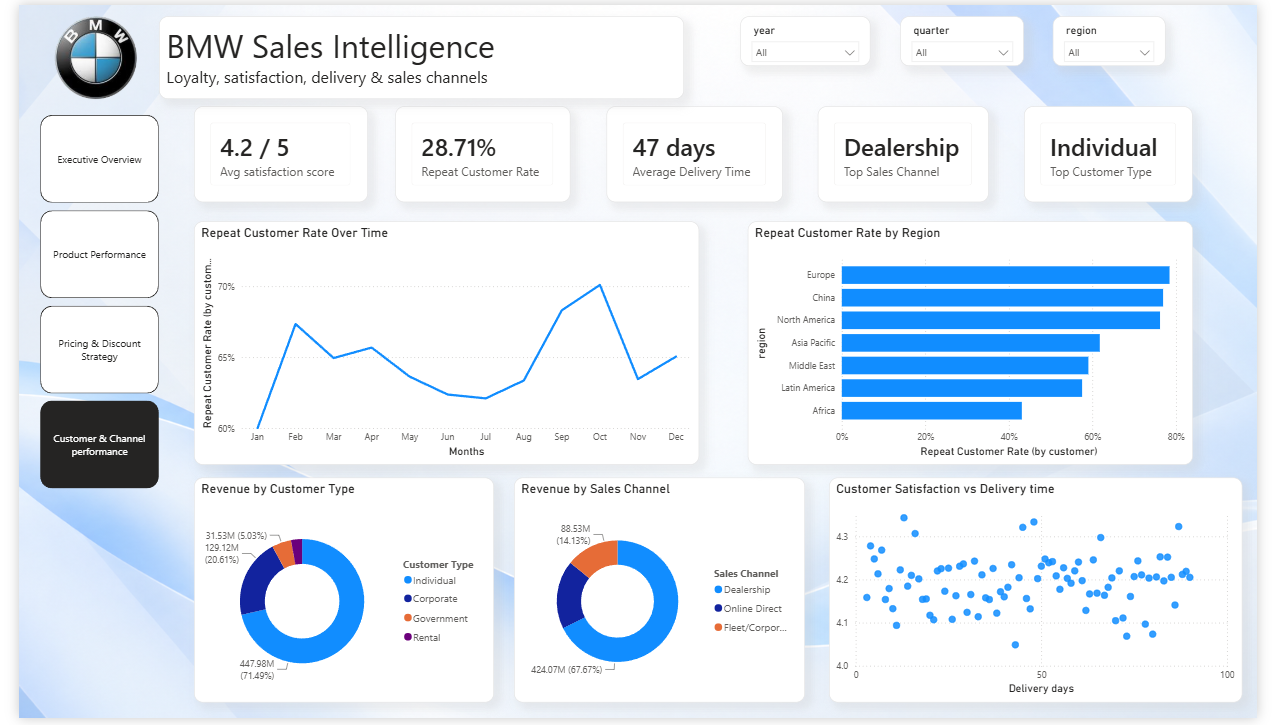

The dashboard page shown, as its layout file describes it:
{"tool":"powerbi","page":{"name":"Customer & Channel performance","canvas":[1650,950],"ordinal":3},"visuals":[{"type":"image","box":[0,0,1651,951],"z":0},{"type":"donutChart","title":"Revenue by Customer Type","fields":{"Category":["public dimcustomer.customer_type"],"Y":["public factsales.Total revenue"]},"box":[232.7,630.6,400,300],"z":1000},{"type":"lineChart","title":"Repeat Customer Rate Over Time","fields":{"Category":["public dimdate.month_name"],"Y":["public factsales.Repeat Customer Rate (by customer)"]},"box":[233.3,288.3,673.3,325],"z":2000},{"type":"slicer","fields":{"Values":["public dimdate.year"]},"box":[993.3,15,173.3,66.7],"z":3000},{"type":"donutChart","title":"Revenue by Sales Channel","fields":{"Category":["public dimcustomer.sales_channel"],"Y":["public factsales.Total revenue"]},"box":[659.2,630.6,387.8,300],"z":4000},{"type":"clusteredBarChart","title":"Repeat Customer Rate by Region","fields":{"Category":["public dimregion.region"],"Y":["public factsales.Repeat Customer Rate (by customer)"]},"box":[971.7,288.3,593.3,325],"z":5000},{"type":"scatterChart","title":"Customer Satisfaction vs Delivery time","fields":{"X":["public factsales.delivery_days"],"Y":["Avg(public factsales.customer_satisfaction_score)"]},"box":[1079.6,630.6,551,300],"z":6000},{"type":"pageNavigator","box":[28.3,146.7,158,500],"z":7000},{"type":"cardVisual","fields":{"Data":["public factsales.avg satisfaction score"]},"box":[233.3,135,231.7,128.3],"z":8000},{"type":"cardVisual","fields":{"Data":["public factsales.Repeat Customer Rate"]},"box":[502.1,135,233.3,128.3],"z":9000},{"type":"cardVisual","fields":{"Data":["public factsales.Average Delivery Time Display"]},"box":[782.5,135,235,128.3],"z":10000},{"type":"cardVisual","fields":{"Data":["public factsales.Top Sales Channel"]},"box":[1064.6,135,228.3,128.3],"z":11000},{"type":"cardVisual","fields":{"Data":["public factsales.Top Customer Type"]},"box":[1340,135,225,128.3],"z":12000},{"type":"slicer","fields":{"Values":["public dimregion.region"]},"box":[1395,15,150,66.7],"z":13000},{"type":"slicer","fields":{"Values":["public dimdate.quarter"]},"box":[1198.3,15,165,66.7],"z":14000},{"type":"textbox","box":[186.7,15,700,110],"z":15000},{"type":"image","box":[28.3,15,148.3,110],"z":16000}]}

Visuals, with their boxes in screenshot pixels (x1, y1, x2, y2), scaled from the page's 1650x950 canvas onto the 1272x725 screenshot:
image: [left=0, top=0, right=1271, bottom=724]
"Revenue by Customer Type" donutChart: [left=179, top=481, right=488, bottom=710]
"Repeat Customer Rate Over Time" lineChart: [left=180, top=220, right=699, bottom=468]
slicer - public dimdate.year: [left=766, top=11, right=899, bottom=62]
"Revenue by Sales Channel" donutChart: [left=508, top=481, right=807, bottom=710]
"Repeat Customer Rate by Region" clusteredBarChart: [left=749, top=220, right=1206, bottom=468]
"Customer Satisfaction vs Delivery time" scatterChart: [left=832, top=481, right=1257, bottom=710]
pageNavigator: [left=22, top=112, right=144, bottom=494]
cardVisual - public factsales.avg satisfaction score: [left=180, top=103, right=358, bottom=201]
cardVisual - public factsales.Repeat Customer Rate: [left=387, top=103, right=567, bottom=201]
cardVisual - public factsales.Average Delivery Time Display: [left=603, top=103, right=784, bottom=201]
cardVisual - public factsales.Top Sales Channel: [left=821, top=103, right=997, bottom=201]
cardVisual - public factsales.Top Customer Type: [left=1033, top=103, right=1206, bottom=201]
slicer - public dimregion.region: [left=1075, top=11, right=1191, bottom=62]
slicer - public dimdate.quarter: [left=924, top=11, right=1051, bottom=62]
textbox: [left=144, top=11, right=684, bottom=95]
image: [left=22, top=11, right=136, bottom=95]
